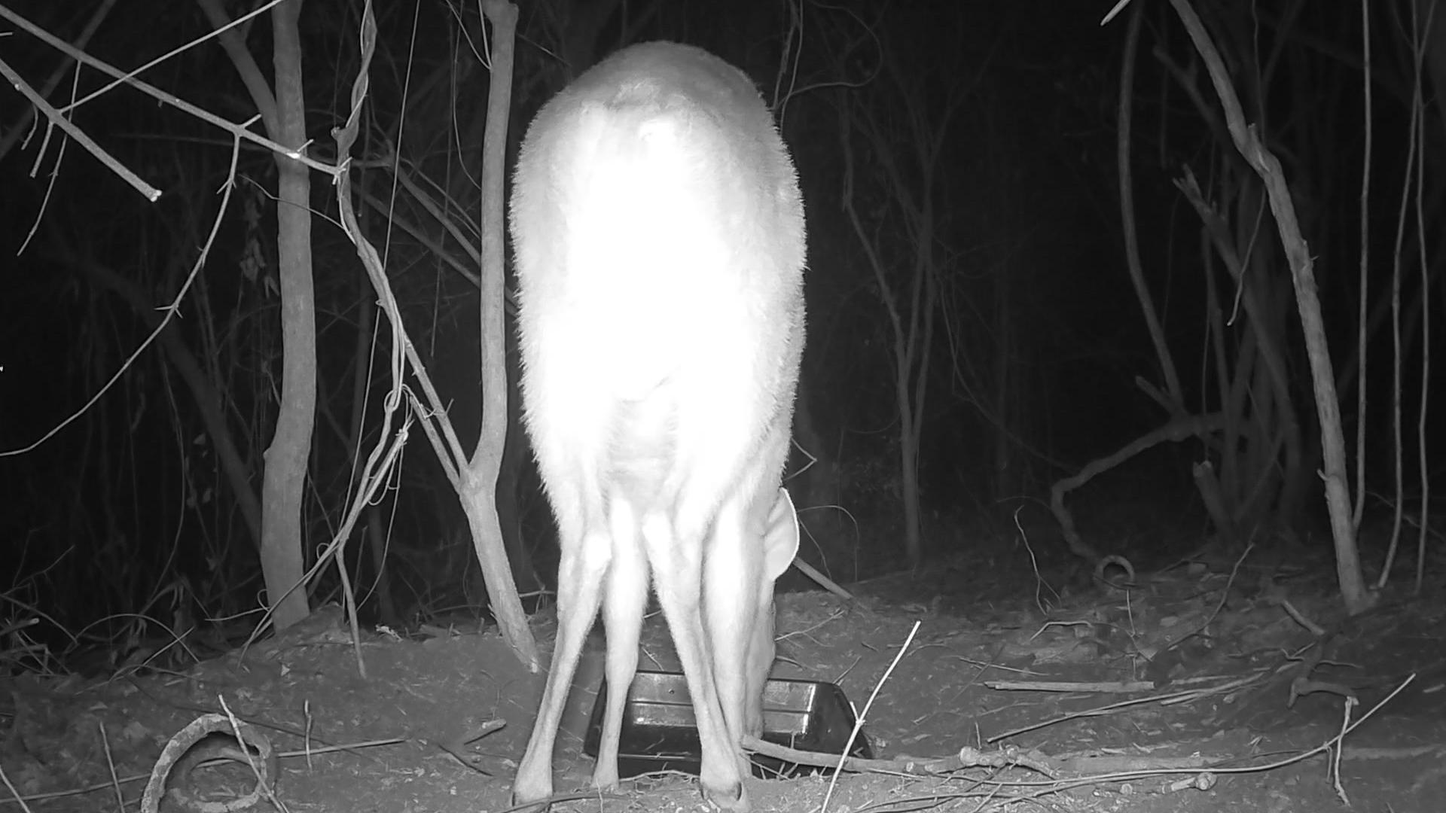ONCA_PARDA: (486, 23, 828, 813)
